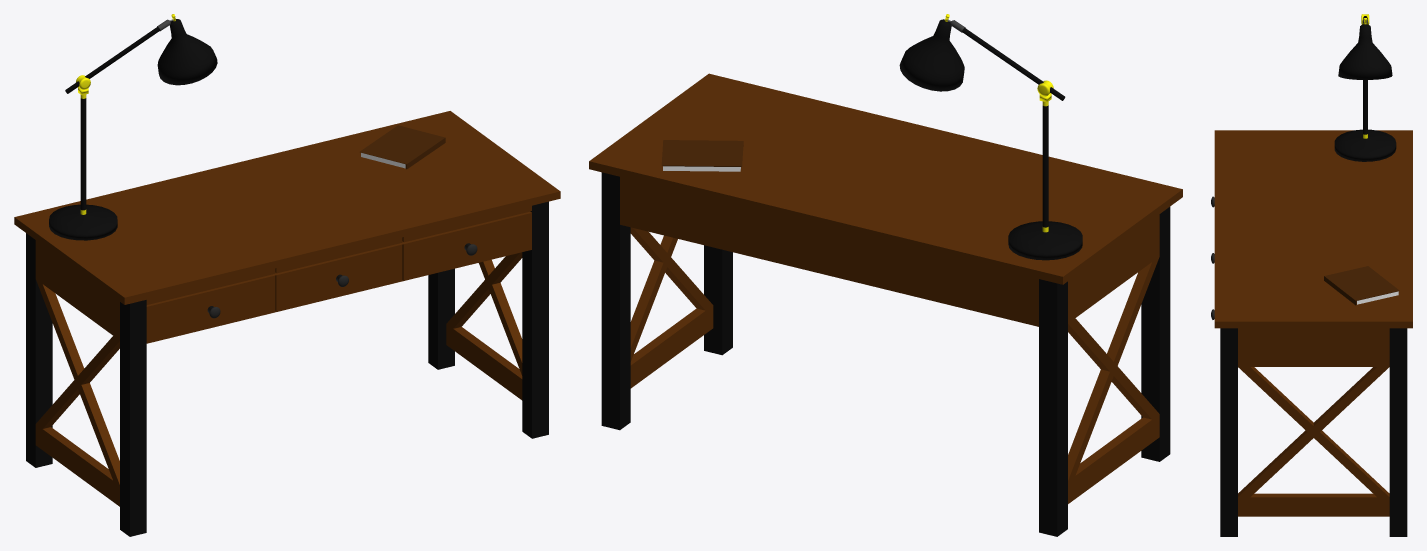
The model's file is office.glb.
3 renders of one model, left to right at view 1: azimuth 30°, elevation 25°; view 2: azimuth 150°, elevation 25°; view 3: azimuth 270°, elevation 25°, orthographic. The views are drawn at different scales.
Visible parts, largest first — view 1: desk, lamp, book.002; view 2: desk, lamp, book.002; view 3: desk, lamp, book.002.
Boxes of the visible parts, <box> form: desk: <box>14,111,560,536</box>; lamp: <box>49,14,217,240</box>; book.002: <box>360,125,445,169</box>; desk: <box>589,73,1182,536</box>; lamp: <box>899,14,1082,260</box>; book.002: <box>661,140,743,171</box>; desk: <box>1211,130,1412,536</box>; lamp: <box>1334,14,1396,161</box>; book.002: <box>1324,266,1399,305</box>.
Size of the model in its own units: 7.74 by 7.35 by 3.45.
1 material, 1 textured.
